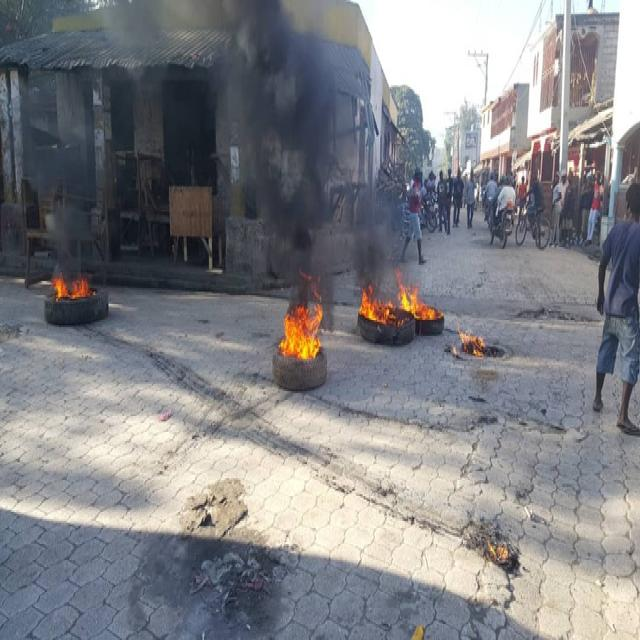fire: (278, 304, 322, 360), (358, 286, 395, 325)
